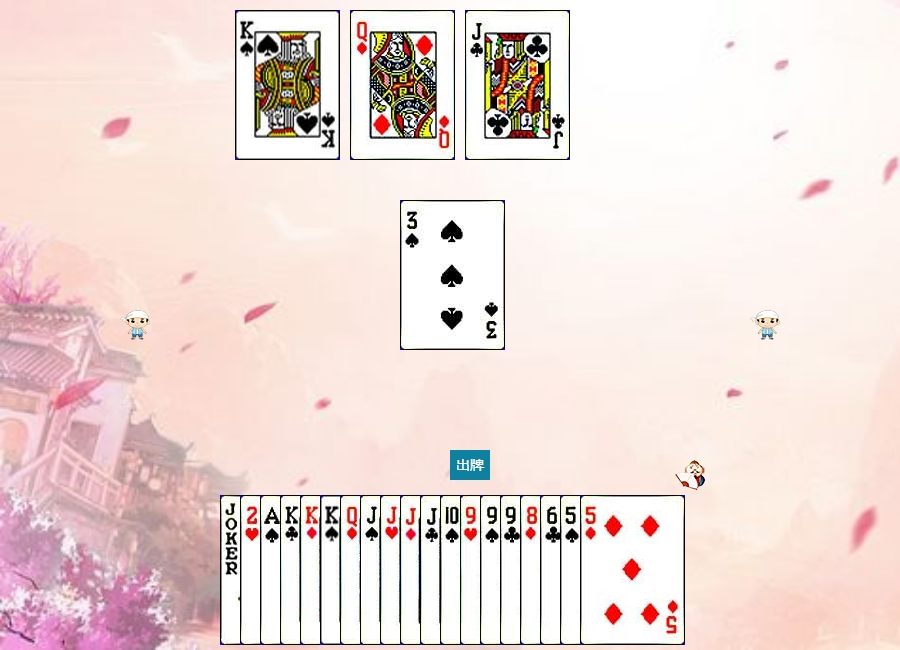10~4: (440, 495, 545, 645)
11~1: (400, 495, 505, 645)
11~2: (465, 10, 570, 160), (420, 495, 525, 645)
11~3: (380, 495, 485, 645)
11~4: (360, 495, 465, 645)
12~1: (350, 10, 455, 160), (340, 495, 445, 645)
13~1: (300, 495, 405, 645)
13~2: (280, 495, 385, 645)
13~4: (235, 10, 340, 160), (320, 495, 425, 645)
14~4: (260, 495, 365, 645)
15~3: (240, 495, 345, 645)
17~3: (220, 495, 325, 645)
3~4: (400, 200, 505, 350)
5~1: (580, 495, 685, 645)
5~4: (560, 495, 665, 645)
6~2: (540, 495, 645, 645)
8~1: (520, 495, 625, 645)
9~2: (500, 495, 605, 645)
9~3: (460, 495, 565, 645)
9~4: (480, 495, 585, 645)
